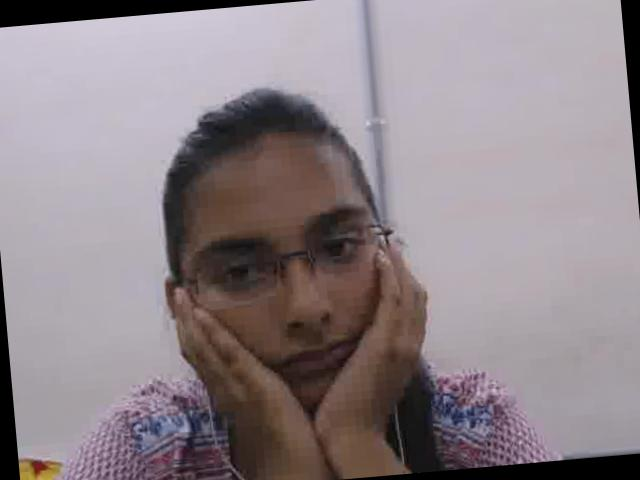bosan: (175, 153, 392, 421)
